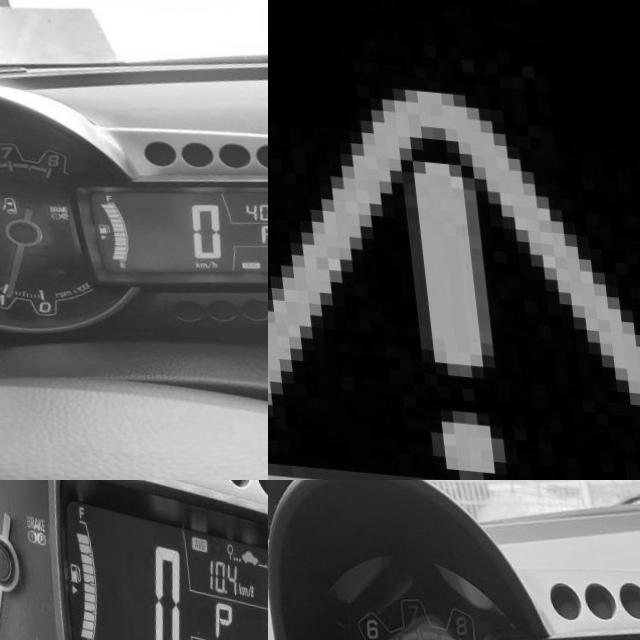Doors: (0, 189, 11, 210)
